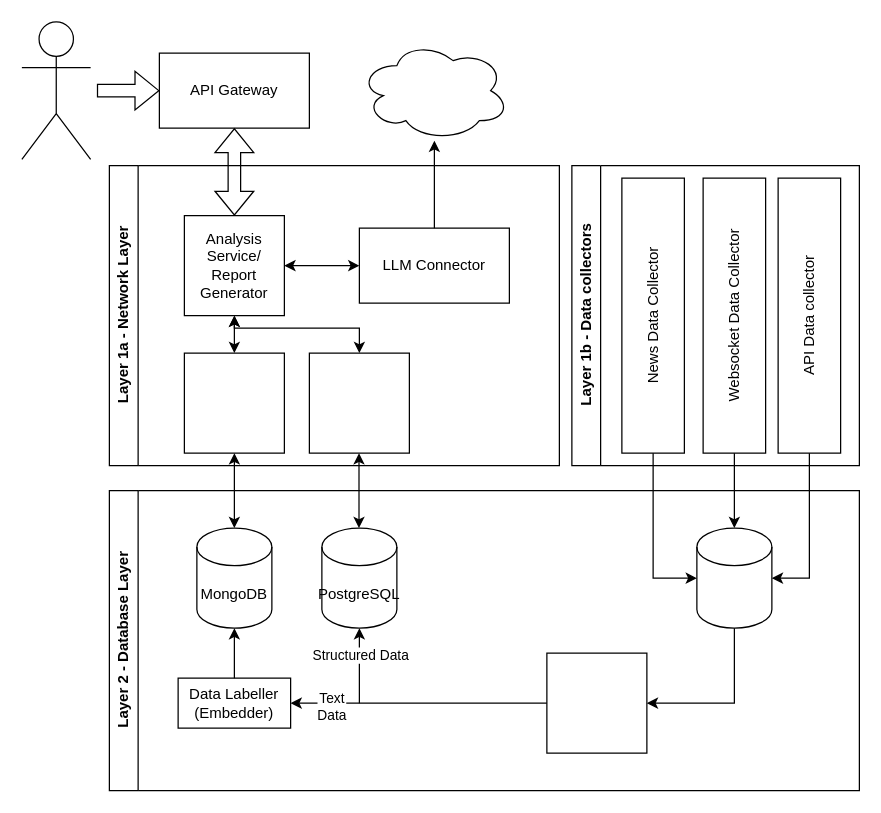
Image size: 881x813. Some labels were removed from this diagram. The shapes that lost their labels are listed below. From the top down, each one's centre as x and y in pixels, then its label:
[56,90]: User
[433,90]: Service Provider
[233,402]: Text Data Collector
[358,402]: Structured Data Collector
[734,577]: Redis
[596,702]: Data Processor
